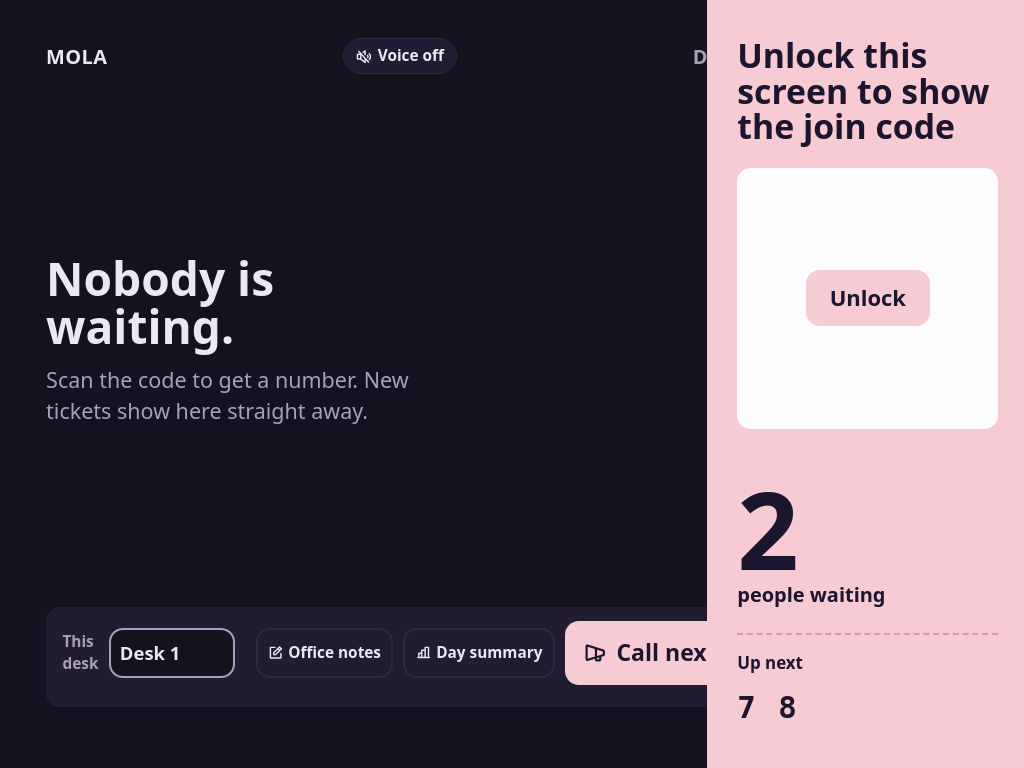
Test: staff notes and summary › loads notes, saves with their version and logs success
Click the button "Office notes" at (324, 653), box [256,628,393,678]
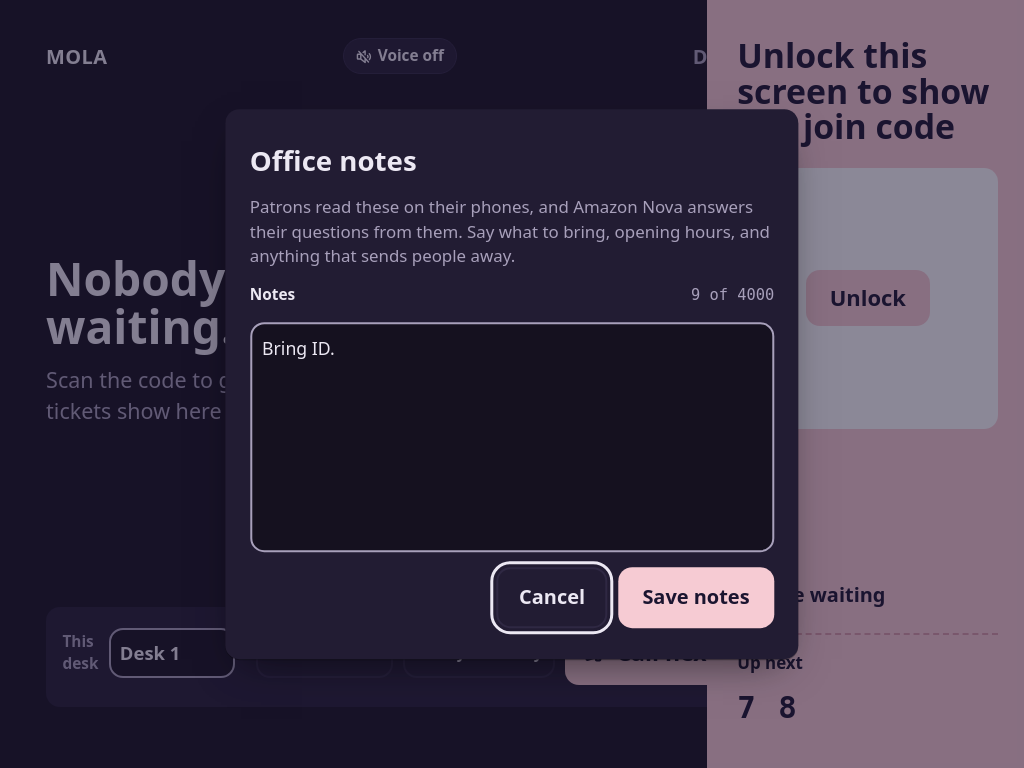
Now the text box labelled "Notes" holds "Bring ID."
Replace the text in the text box labelled "Notes" with "Bring copies." at (512, 437), box [250,322,774,552]
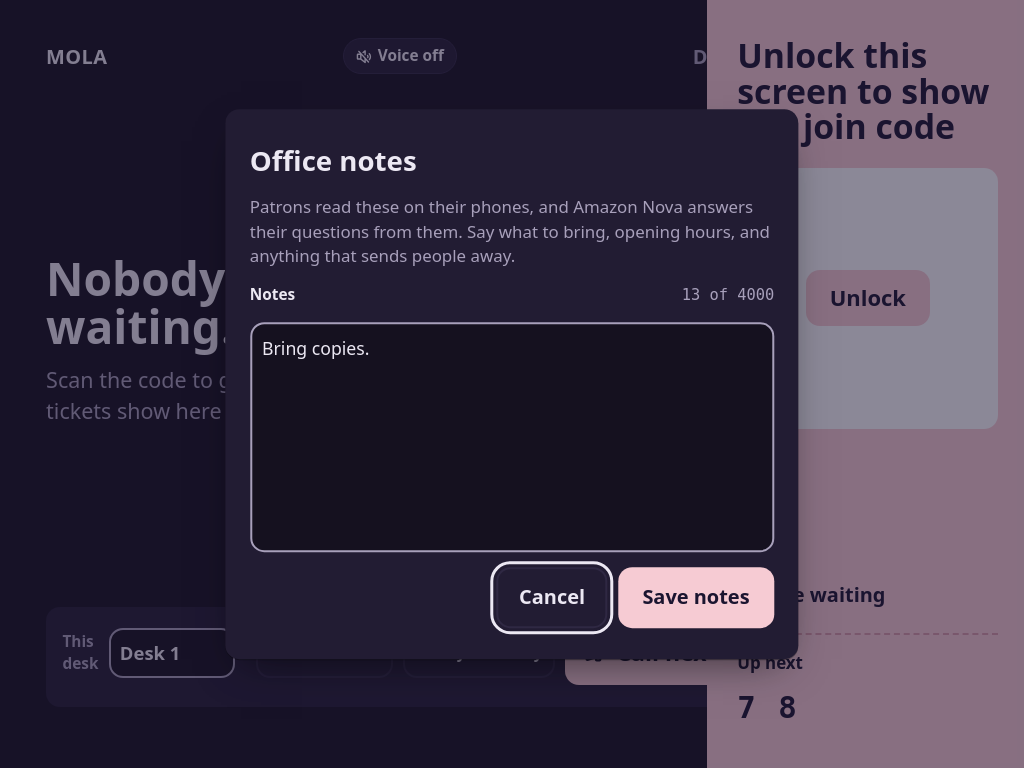
Now the text "13 of 4000" is shown, box [682,284,774,306]
Click the button "Save notes" at (696, 598), box [618,568,774,628]
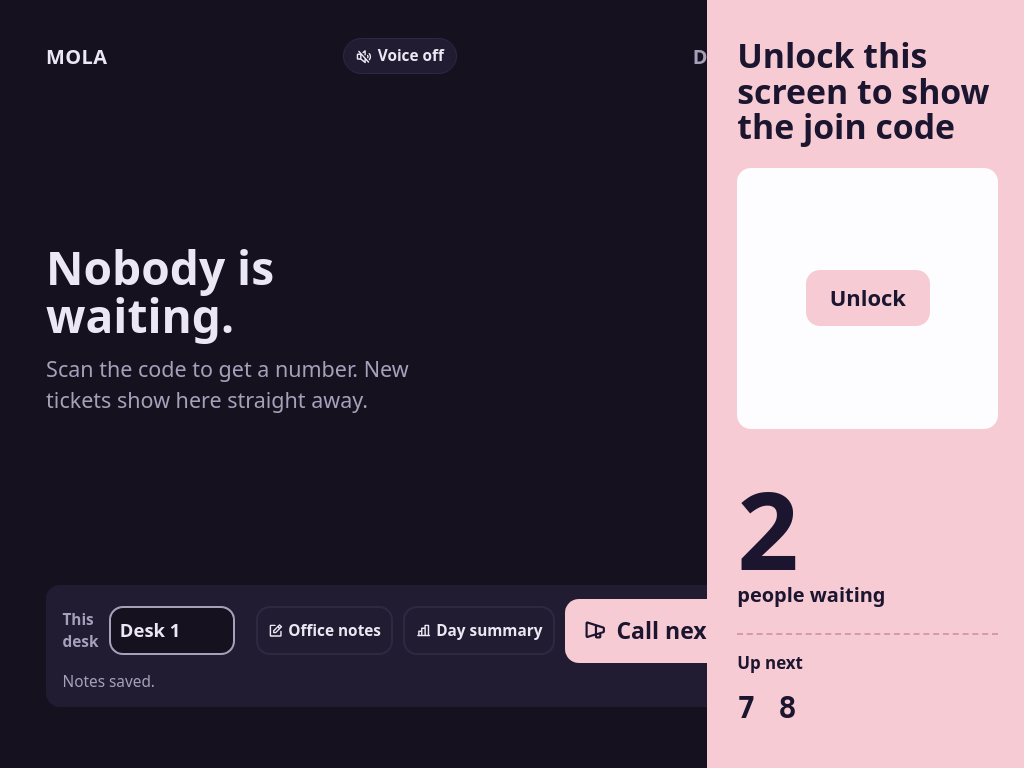
Now the dialog is gone
Now the text "Notes saved." is shown, box [62,670,155,692]
